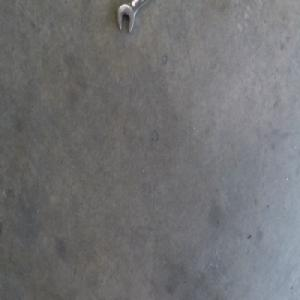Wrench: (117, 0, 149, 32)
